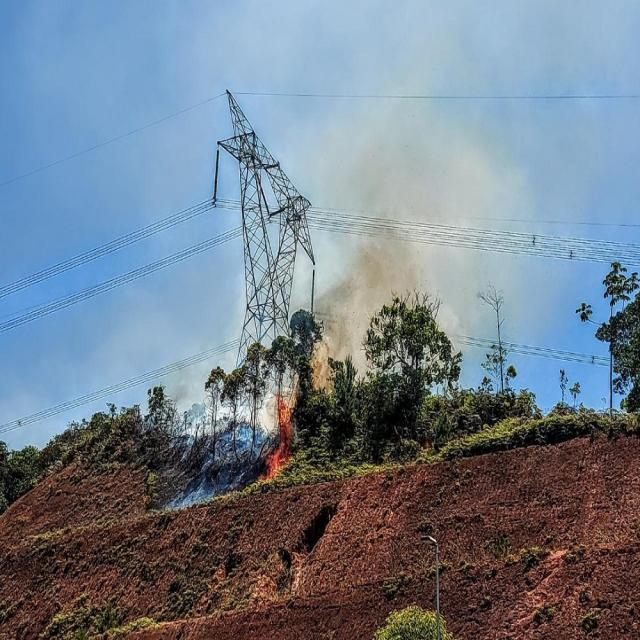Fire: (264, 392, 300, 479)
Smoke: (314, 216, 426, 382), (165, 386, 252, 504)
